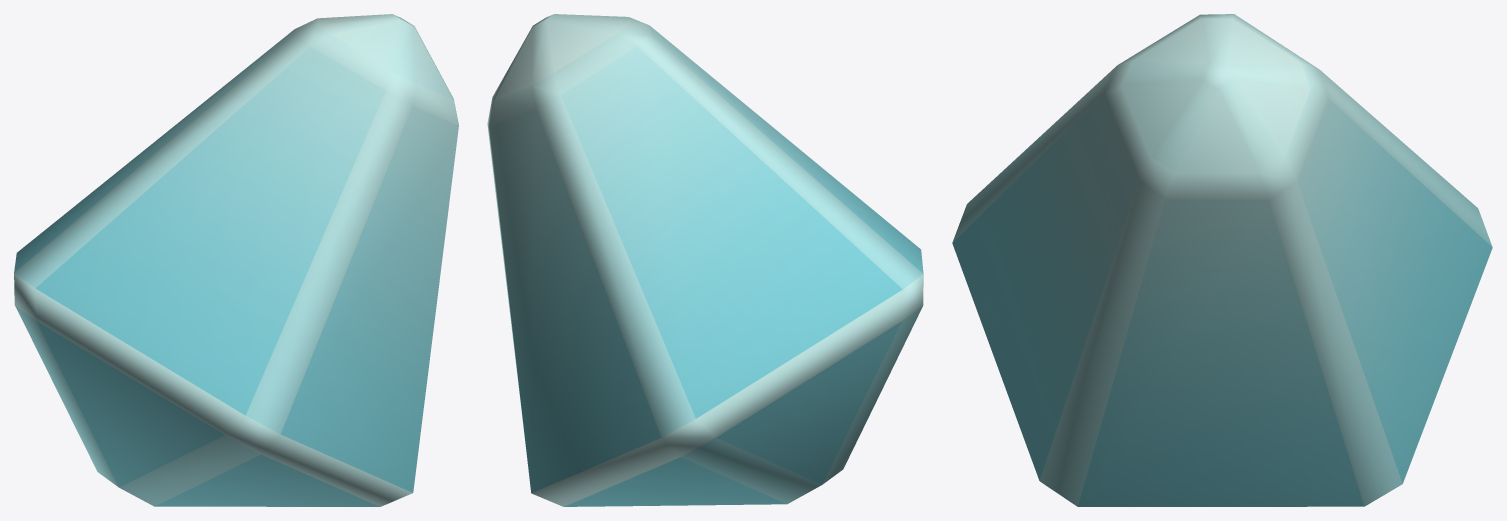
File: christal_diamond_7.fbx
The picture shows the model from 3 angles, left to right: view 1: azimuth 30°, elevation 25°; view 2: azimuth 150°, elevation 25°; view 3: azimuth 270°, elevation 25°; orthographic projection. The views are drawn at different scales.
Parts seen in each view (by area): view 1: christal_diamond_7; view 2: christal_diamond_7; view 3: christal_diamond_7.
Part boxes in pixels (x1,y1,x2,y2): christal_diamond_7: (14, 14, 458, 506); christal_diamond_7: (487, 14, 923, 506); christal_diamond_7: (952, 14, 1492, 506).
Size of the model in its own units: 47.99 by 48.58 by 48.9.
Materials: 1 (1 with a texture image).
